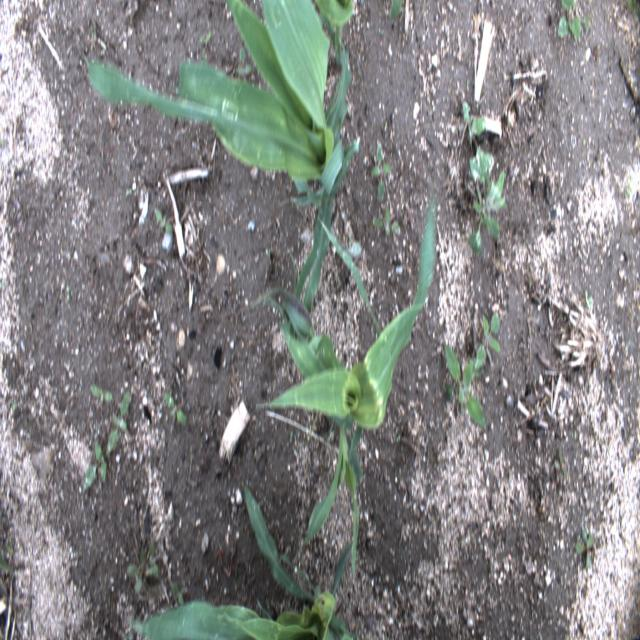crop: (82, 0, 381, 337), (245, 190, 436, 580), (128, 485, 358, 639), (313, 0, 354, 53), (389, 0, 404, 20)
weed: (444, 342, 486, 431), (468, 165, 506, 255), (463, 102, 494, 182), (126, 540, 160, 594), (444, 356, 484, 400), (106, 388, 130, 458), (474, 312, 501, 369), (82, 437, 109, 491), (371, 144, 391, 202), (372, 203, 401, 238), (558, 13, 591, 43), (574, 526, 594, 572), (165, 392, 188, 426), (88, 385, 114, 407), (154, 206, 173, 236), (235, 45, 252, 75), (553, 448, 568, 478), (172, 582, 188, 605), (626, 0, 640, 25), (200, 28, 211, 51), (0, 555, 13, 572), (559, 0, 577, 11), (4, 539, 14, 556), (584, 289, 592, 309), (65, 284, 71, 304), (290, 430, 294, 448), (0, 138, 8, 147), (125, 188, 132, 197), (396, 432, 401, 444)
